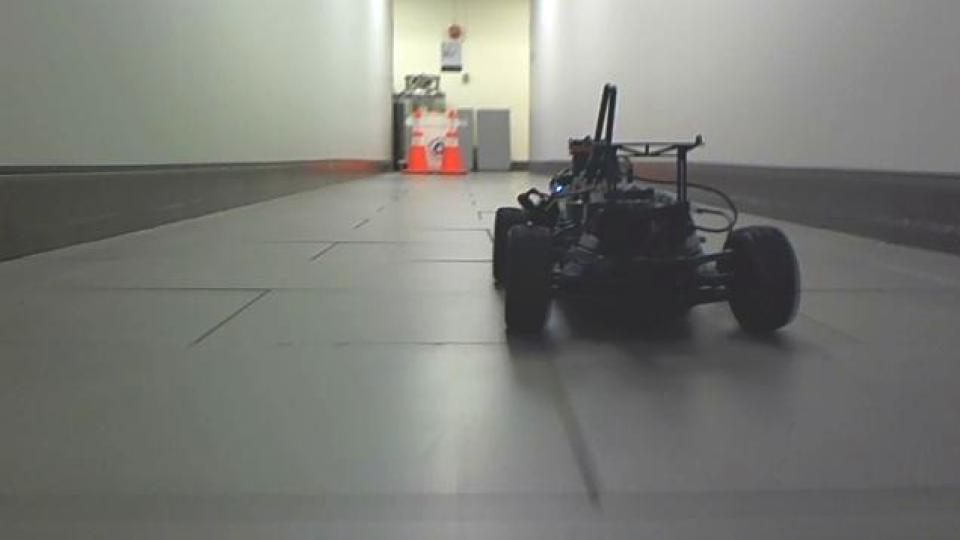car: (488, 80, 803, 342)
